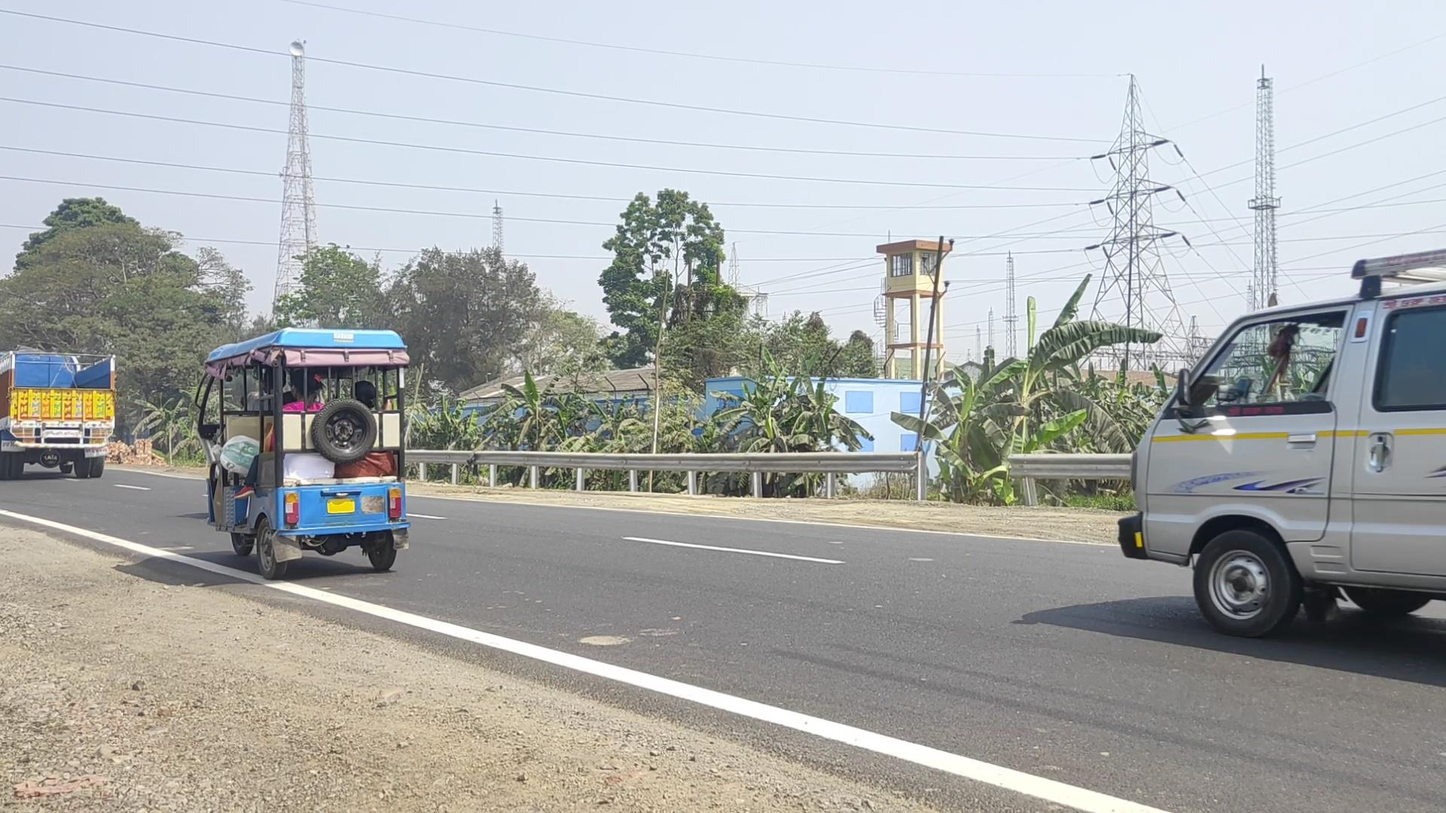Auto: (194, 326, 411, 582)
truck: (1, 349, 116, 483)
van: (1117, 247, 1446, 639)
